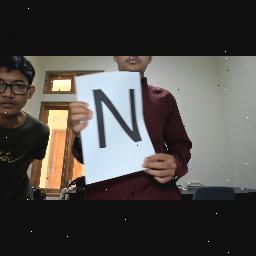n: (78, 84, 154, 150)
